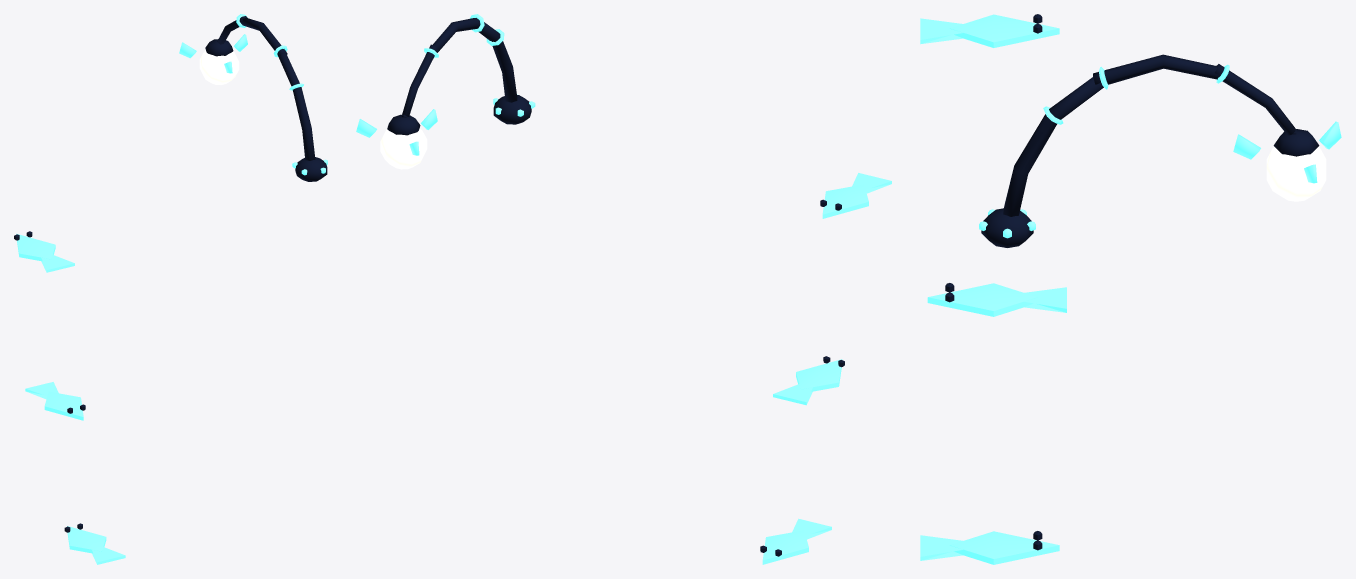
The model's file is pirate_abysses_extras.fbx.
3 renders of one model, left to right at view 1: azimuth 30°, elevation 25°; view 2: azimuth 150°, elevation 25°; view 3: azimuth 270°, elevation 25°, orthographic. The views are drawn at different scales.
Parts seen in each view (by area): view 1: Anim_Tige_1, Anim_Lanterne, Poisson_1, Poisson_3, Poisson_2, Anim_Tige_2; view 2: Anim_Lanterne, Anim_Tige_1, Poisson_2, Poisson_1, Poisson_3, Anim_Tige_3, Anim_Tige_2; view 3: Anim_Tige_1, Anim_Lanterne, Poisson_3, Poisson_1, Poisson_2, Anim_Tige_2, Anim_Tige_3.
Part boxes in pixels (x1,y1,x2,y2): Anim_Tige_1: (277, 53, 327, 181); Anim_Lanterne: (179, 34, 247, 84); Poisson_1: (64, 523, 125, 564); Poisson_3: (14, 231, 74, 272); Poisson_2: (25, 382, 85, 420); Anim_Tige_2: (240, 18, 287, 57); Anim_Lanterne: (356, 109, 437, 169); Anim_Tige_1: (479, 22, 535, 124); Poisson_2: (773, 356, 844, 405); Poisson_1: (760, 518, 831, 564); Poisson_3: (820, 173, 891, 218); Anim_Tige_3: (402, 44, 438, 116); Anim_Tige_2: (432, 14, 484, 52); Anim_Tige_1: (979, 77, 1103, 247); Anim_Lanterne: (1233, 121, 1341, 201); Poisson_3: (920, 14, 1059, 47); Poisson_1: (920, 531, 1059, 564); Poisson_2: (927, 283, 1066, 316); Anim_Tige_2: (1093, 54, 1220, 89); Anim_Tige_3: (1215, 64, 1295, 135).
Bounding box in the file's own units: 1.31 × 1.62 × 0.9184.
